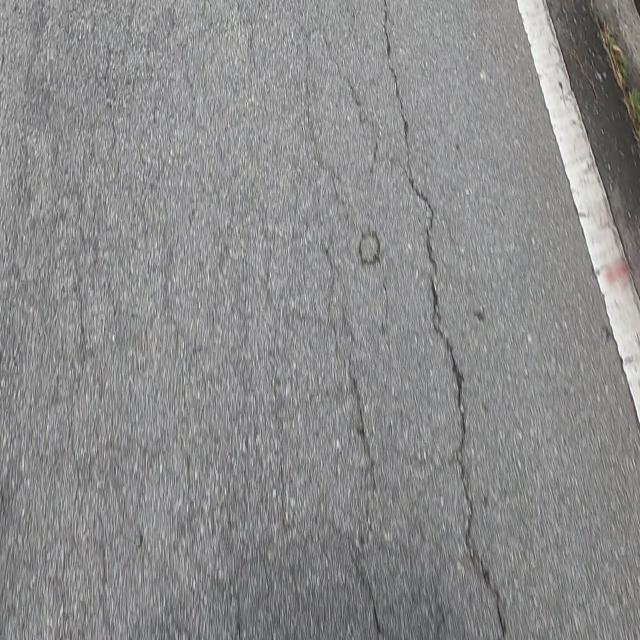Retak-Buaya: (5, 9, 380, 637)
Retak-Memanjang: (379, 0, 507, 638)
